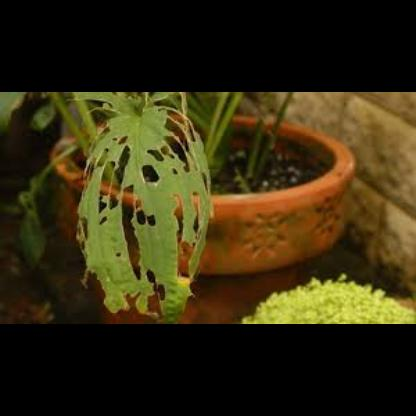agujero: (166, 190, 194, 282), (122, 182, 142, 284), (161, 134, 197, 178), (164, 106, 200, 142), (146, 269, 168, 320), (165, 116, 196, 152), (109, 144, 121, 212), (98, 159, 110, 213), (80, 213, 98, 247), (124, 289, 146, 313), (192, 187, 202, 239), (141, 161, 159, 183), (199, 171, 211, 195), (97, 145, 109, 169), (146, 148, 166, 162), (163, 146, 175, 160), (136, 212, 146, 228), (99, 216, 108, 228), (170, 164, 178, 176), (146, 214, 154, 226), (121, 134, 127, 146), (114, 251, 124, 257), (136, 200, 141, 210)
